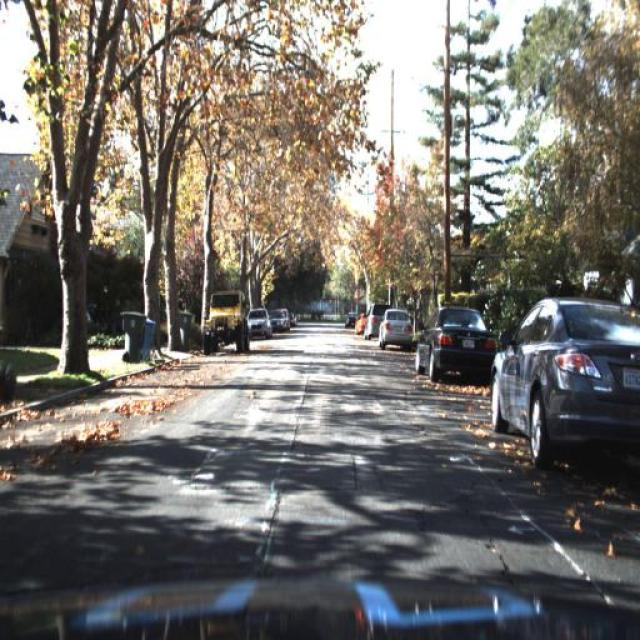car: (480, 264, 639, 468), (412, 292, 497, 386), (196, 282, 252, 358), (375, 301, 416, 353), (246, 302, 274, 344), (359, 303, 380, 346), (364, 299, 385, 341), (353, 308, 368, 343), (270, 308, 288, 336), (272, 310, 290, 334)
